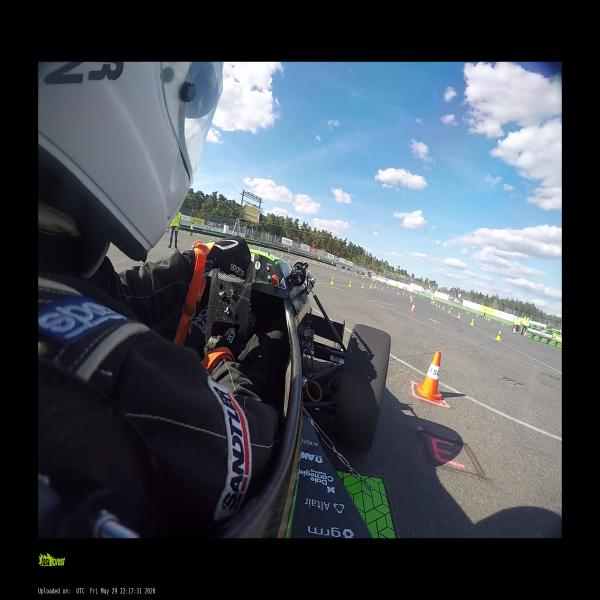orange_cone: (416, 350, 442, 402), (411, 304, 415, 312), (410, 298, 413, 304)
yellow_cone: (494, 331, 503, 340), (330, 276, 334, 286), (456, 312, 460, 318), (470, 320, 474, 326), (361, 283, 364, 289), (476, 313, 479, 318), (448, 308, 451, 313), (349, 280, 351, 287), (442, 306, 445, 310), (381, 286, 384, 290), (409, 293, 412, 297), (402, 291, 405, 295), (370, 284, 372, 289), (438, 305, 441, 308), (397, 292, 400, 295), (422, 296, 424, 300), (387, 286, 389, 289), (466, 311, 468, 314), (413, 294, 415, 297), (419, 294, 420, 298), (433, 300, 434, 304)
